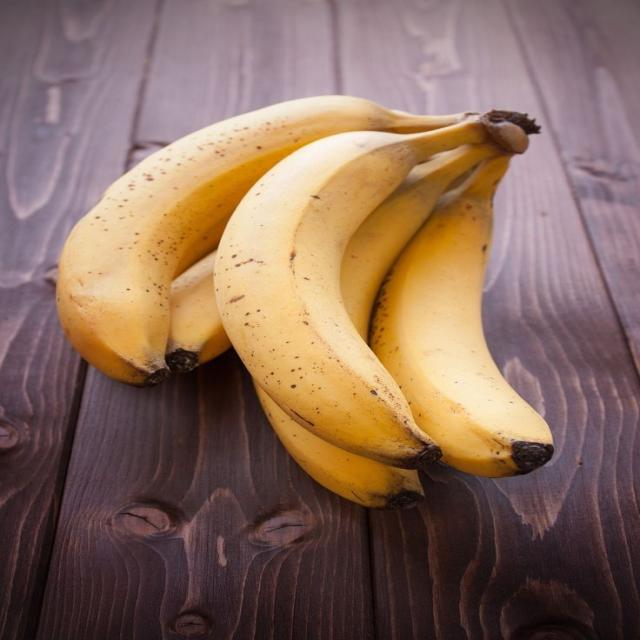unpeal banana: (57, 96, 464, 386), (215, 113, 526, 468), (371, 156, 553, 477), (341, 144, 499, 337), (341, 145, 499, 337), (254, 381, 424, 508), (167, 252, 230, 372)
